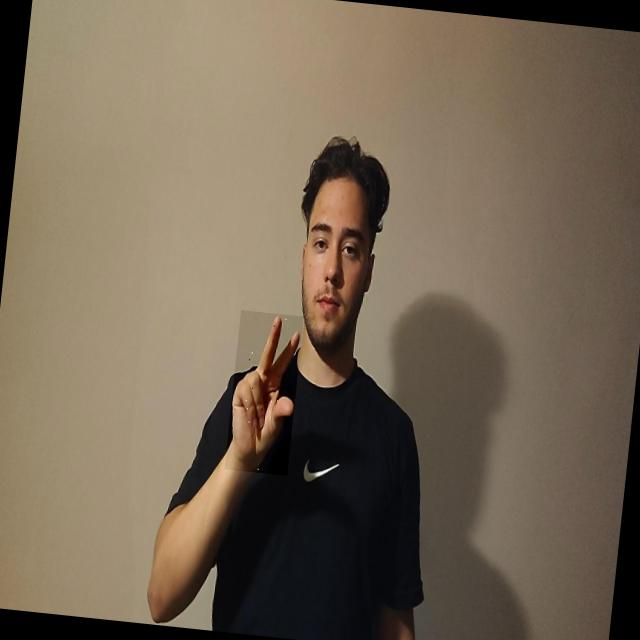no: (224, 310, 304, 476)
